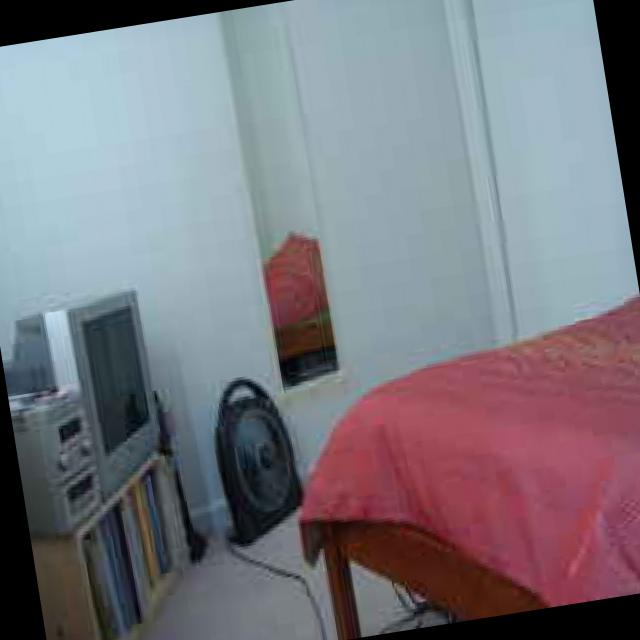bed -occluded-: (301, 294, 640, 632)
floor -X: (79, 400, 640, 640)
mirror crop: (225, 10, 345, 386)
music system: (14, 390, 109, 537)
shelves crop: (36, 446, 196, 640)
television cabinet: (10, 287, 164, 495)
ventilator: (217, 377, 308, 541)
wall clock: (116, 0, 507, 538), (38, 29, 216, 548), (442, 0, 640, 412), (0, 41, 126, 640)
